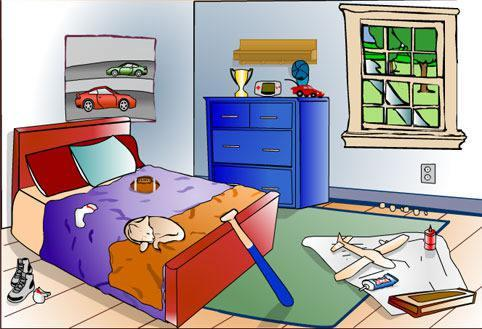aeroplane: (327, 225, 413, 284)
car: (71, 85, 138, 114), (290, 82, 330, 103), (108, 59, 149, 78)
dog: (124, 215, 187, 254)
